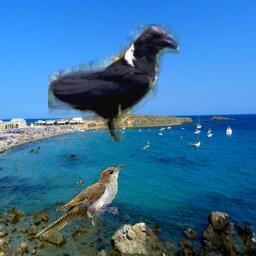Crow: (48, 24, 180, 142)
Cuckoo: (34, 164, 125, 237)
